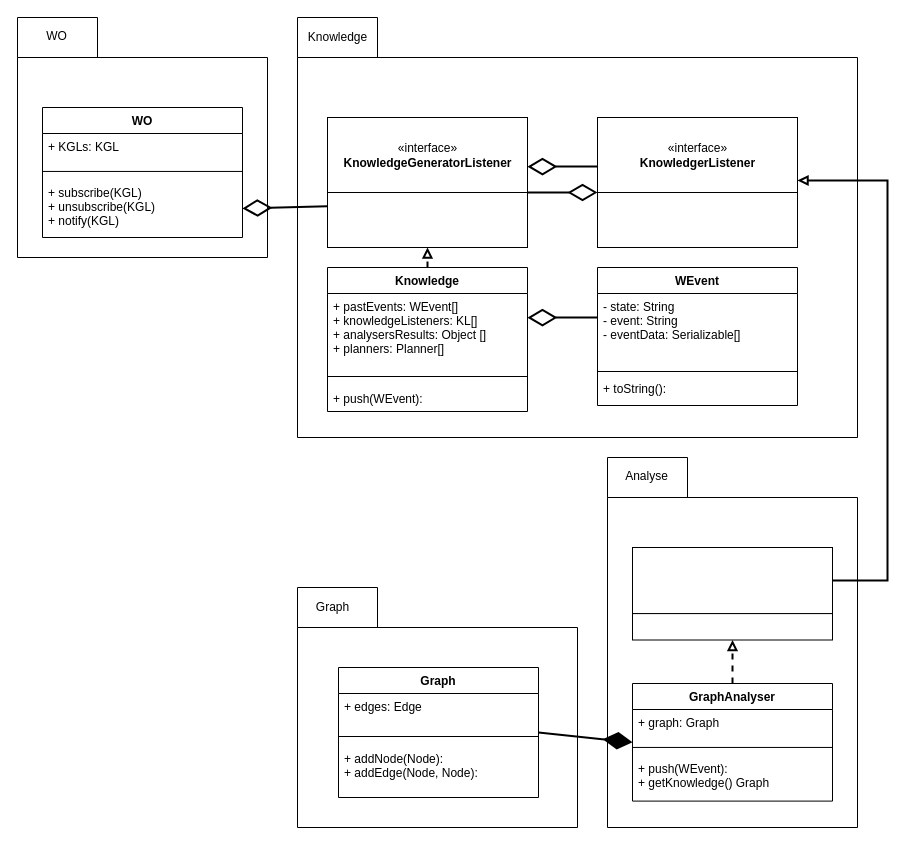
The diagram is 914 pixels wide and 845 high, and some of its shapes have lost their labels. The shapes that lost their labels are listed below. From the top down, each one's centre as x and y in pixels, then its label:
the point at 427,220: + push(WEvent) + subscribe(KnowledgeListener)
the point at 697,220: + push(WEvent) + subscribe(KGL) + subscribe(Planner)
the point at 732,580: «interface» Analyser
the point at 732,626: + push(WEvent) + getKnowledge():Object
